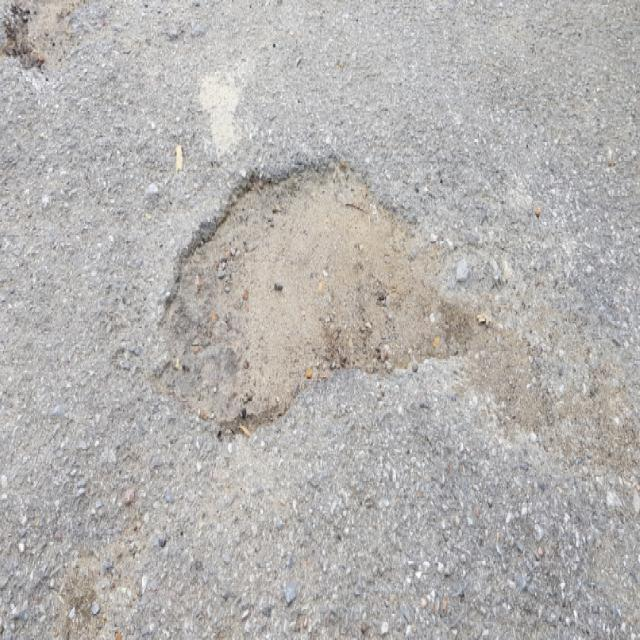pothole: (154, 140, 488, 450)
